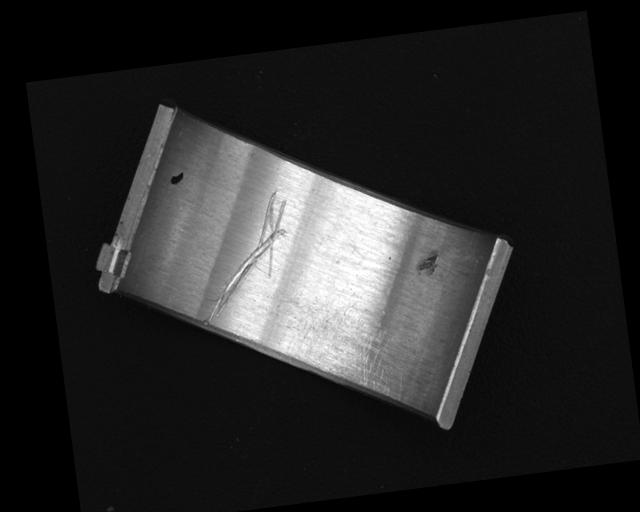blot: (167, 170, 185, 186)
bruise: (415, 250, 442, 277)
nick: (188, 186, 303, 324)
scratch: (294, 304, 407, 409)
